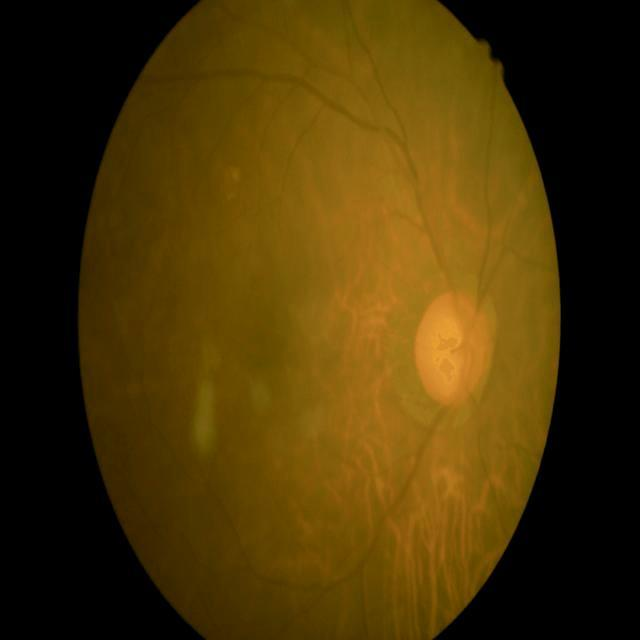cup: (427, 309, 472, 394)
disk: (413, 289, 492, 406)
